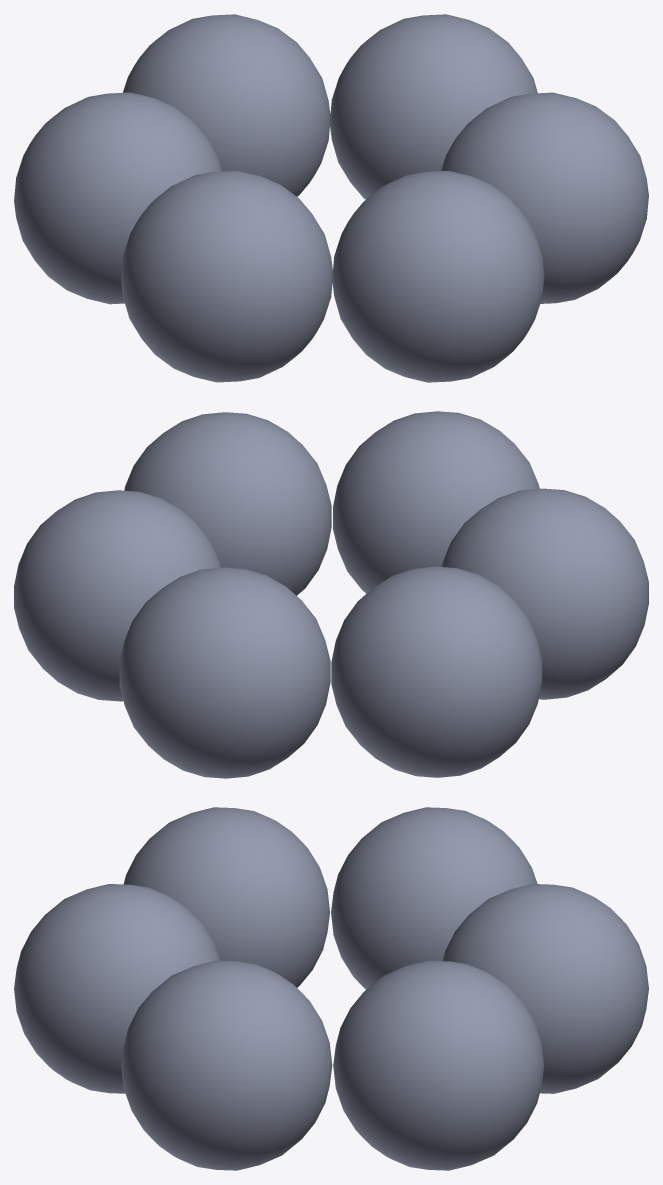
3 views of the same model, one above another, from view 1: azimuth 30°, elevation 25°; view 2: azimuth 150°, elevation 25°; view 3: azimuth 270°, elevation 25° (orthographic).
Visible parts, largest first — view 1: GeoSphere566; view 2: GeoSphere566; view 3: GeoSphere566.
Boxes of the visible parts, x1,y1,x2,y2 form: GeoSphere566: [14, 14, 648, 382]; GeoSphere566: [14, 411, 648, 778]; GeoSphere566: [14, 807, 648, 1170].
Size of the model in its own units: 109 by 39.76 by 120.
1 material, 1 textured.
